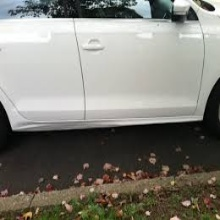no damage: (1, 1, 220, 146)
